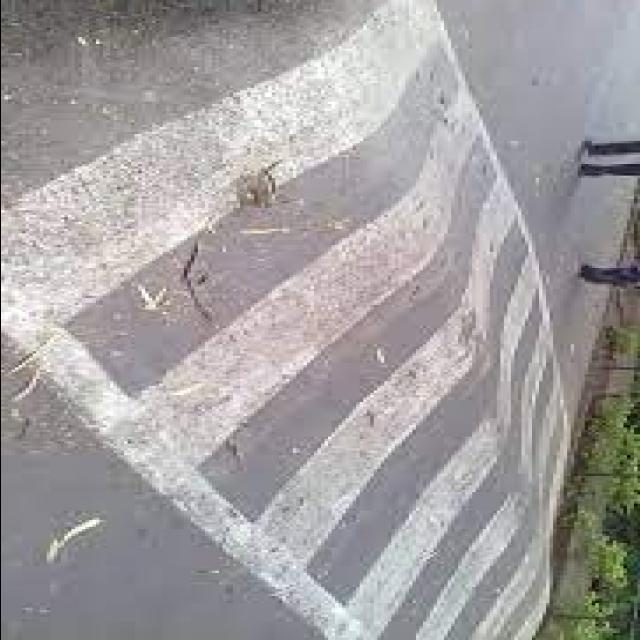speedbreaker: (202, 0, 550, 636)
